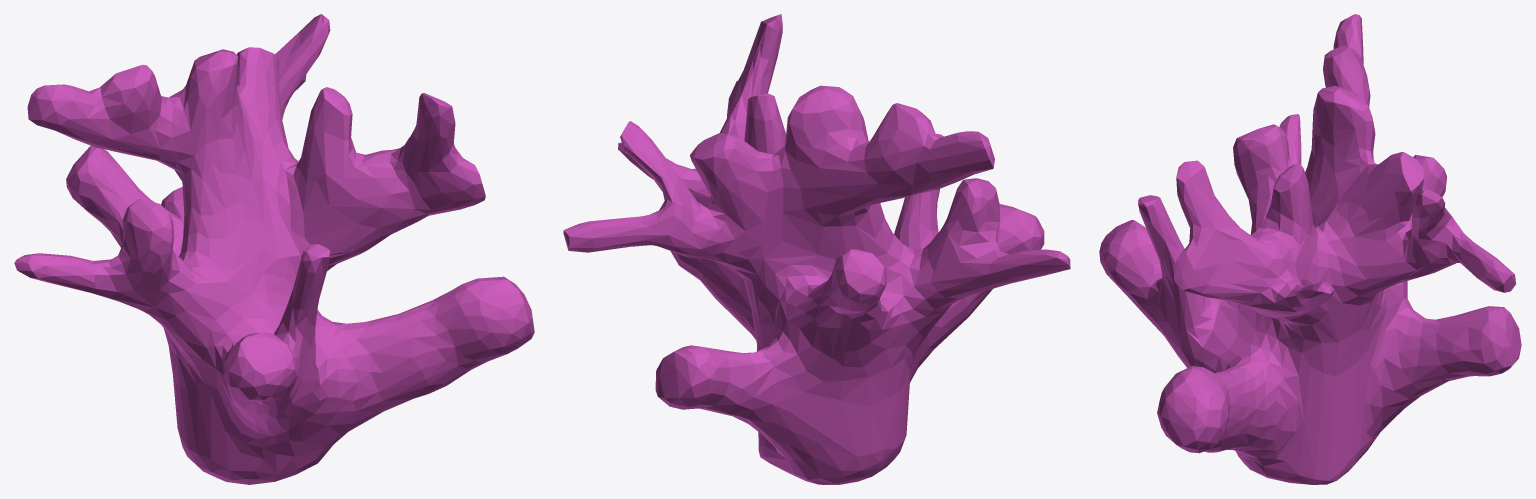
File: Coral.fbx
The picture shows the model from 3 angles, left to right: view 1: azimuth 30°, elevation 25°; view 2: azimuth 150°, elevation 25°; view 3: azimuth 270°, elevation 25°; orthographic projection. The views are drawn at different scales.
Visible parts, largest first — view 1: Cylinder; view 2: Cylinder; view 3: Cylinder.
Part boxes in pixels (x1,y1,x2,y2): Cylinder: (14,14,534,484); Cylinder: (563,14,1070,484); Cylinder: (1099,14,1521,484).
Bounding box in the file's own units: 713 × 614 × 610.
